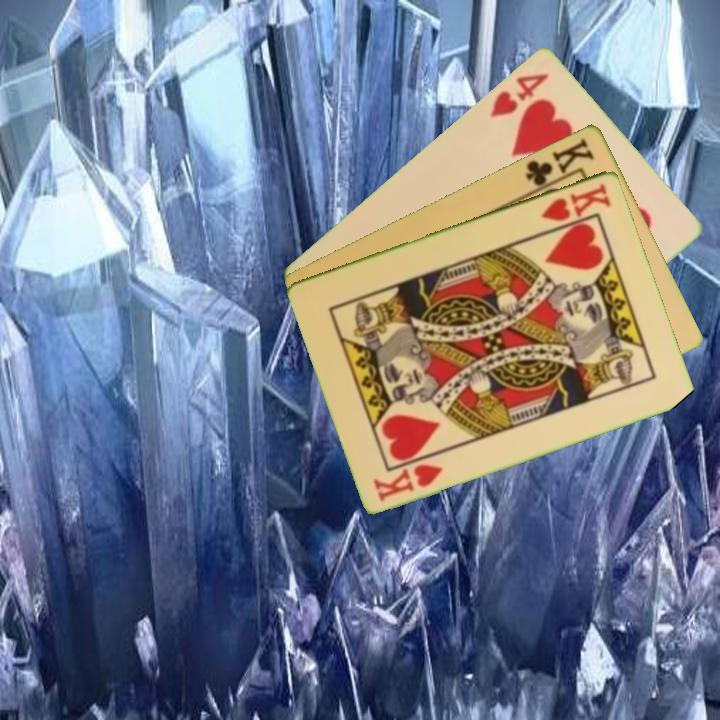4h: (486, 68, 552, 120)
Kc: (522, 134, 597, 195)
Kh: (538, 178, 614, 224), (370, 459, 446, 504)
